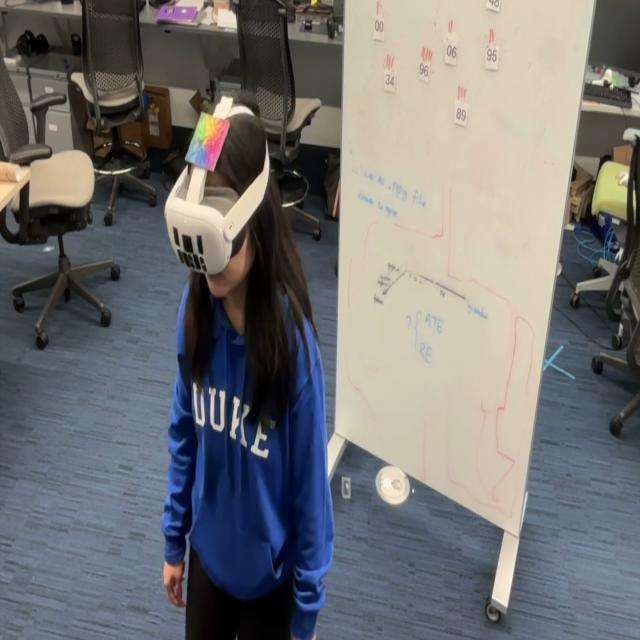Headset: (164, 110, 270, 276)
Marker: (183, 108, 231, 174)
